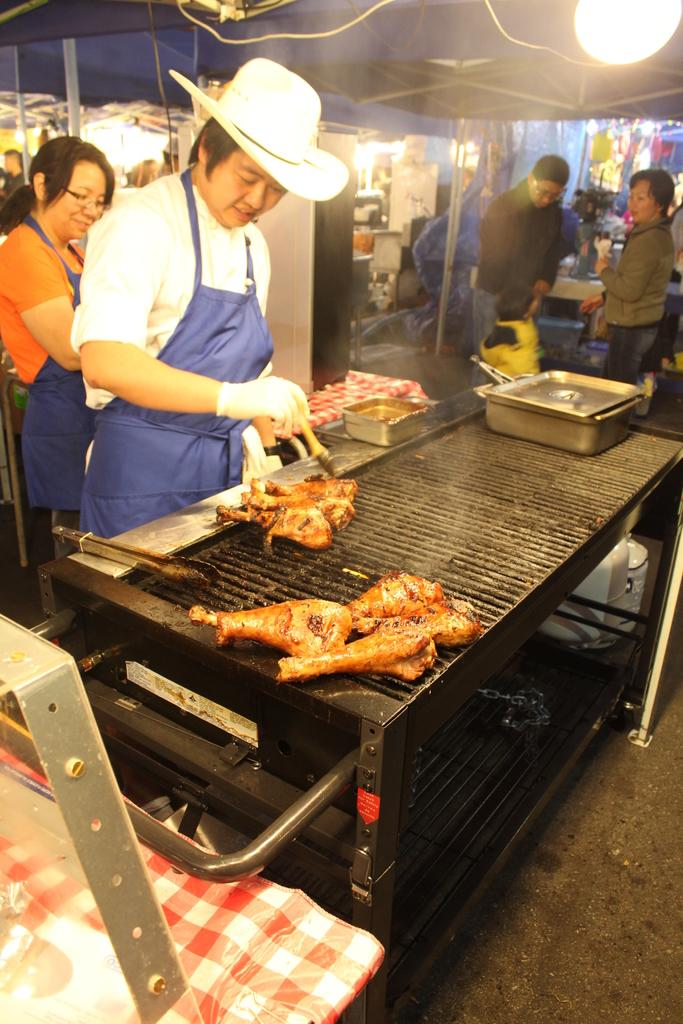Hat: (166, 57, 339, 201)
